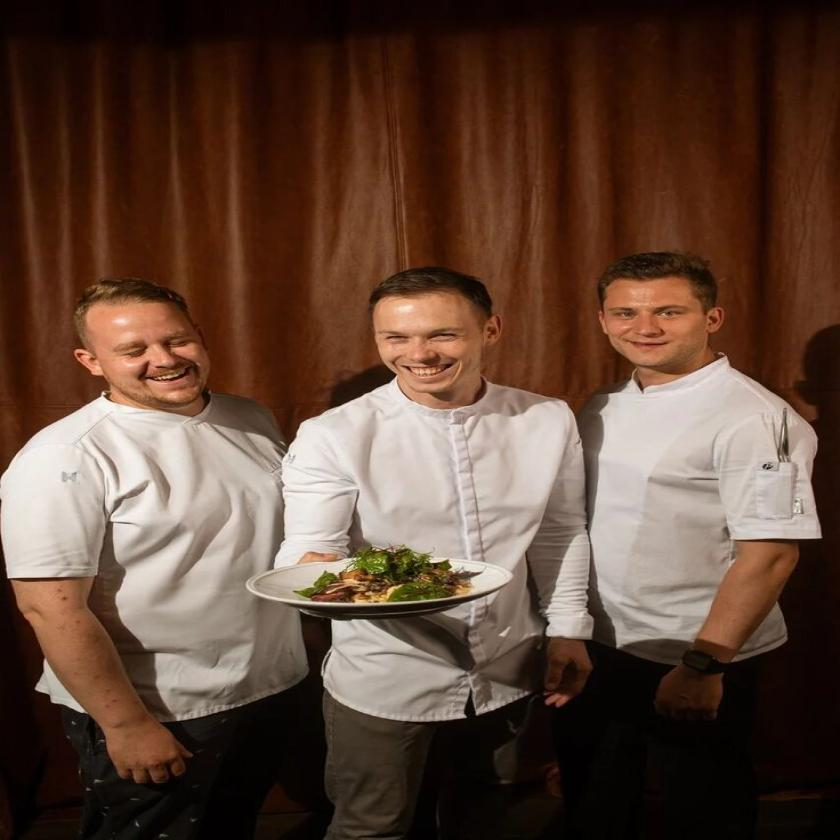Sin_casco: (63, 278, 224, 414), (369, 263, 514, 400), (597, 246, 738, 376)
